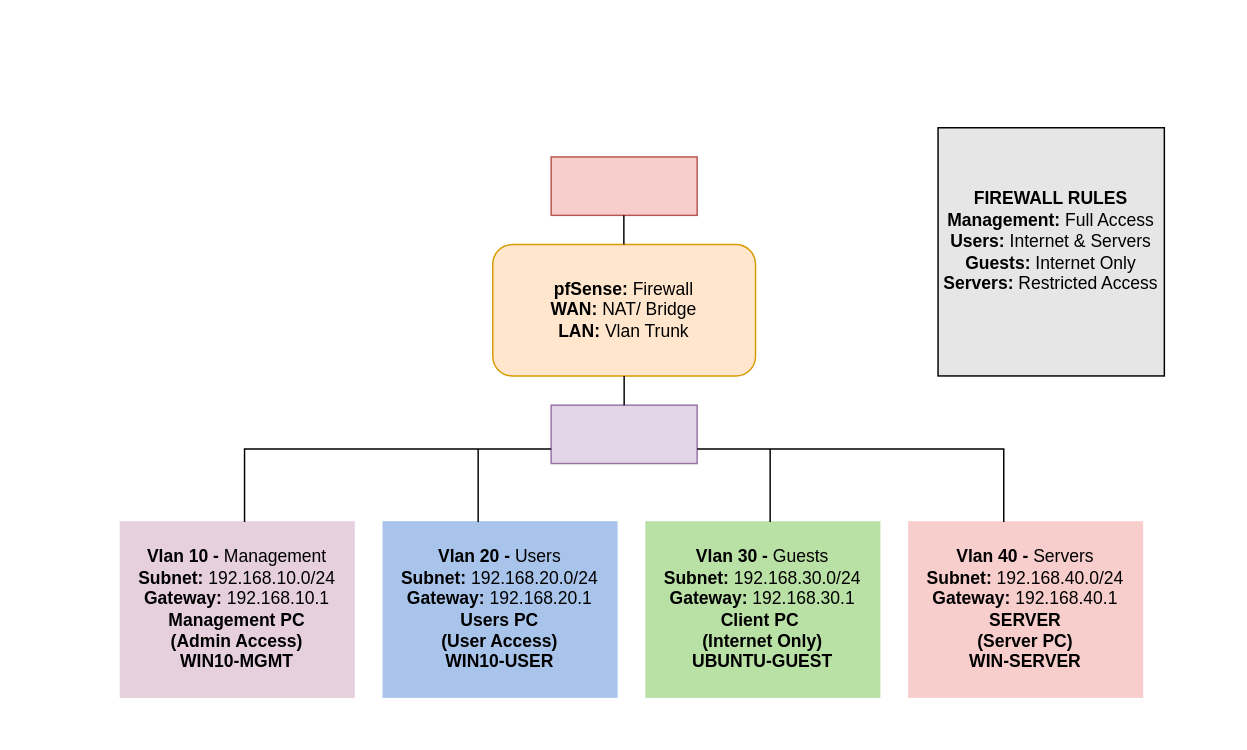
Image size: 1247x750. Some labels were removed from this diagram. Each missing label, with the box of its shape:
Internet (ISP): (550, 155, 697, 215)
Virtual Switch: (550, 404, 697, 464)
